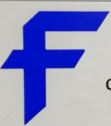Fisher: (1, 10, 110, 125)
